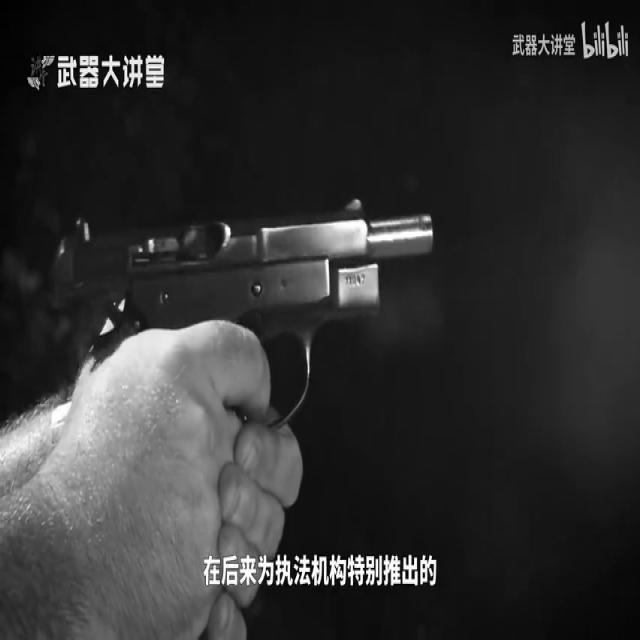Hand-Gun: (51, 189, 446, 441)
